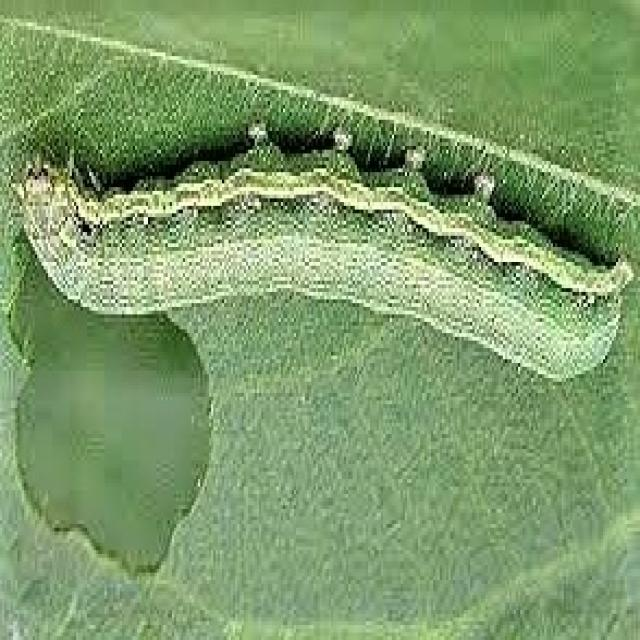armyworm: (16, 137, 634, 418)
